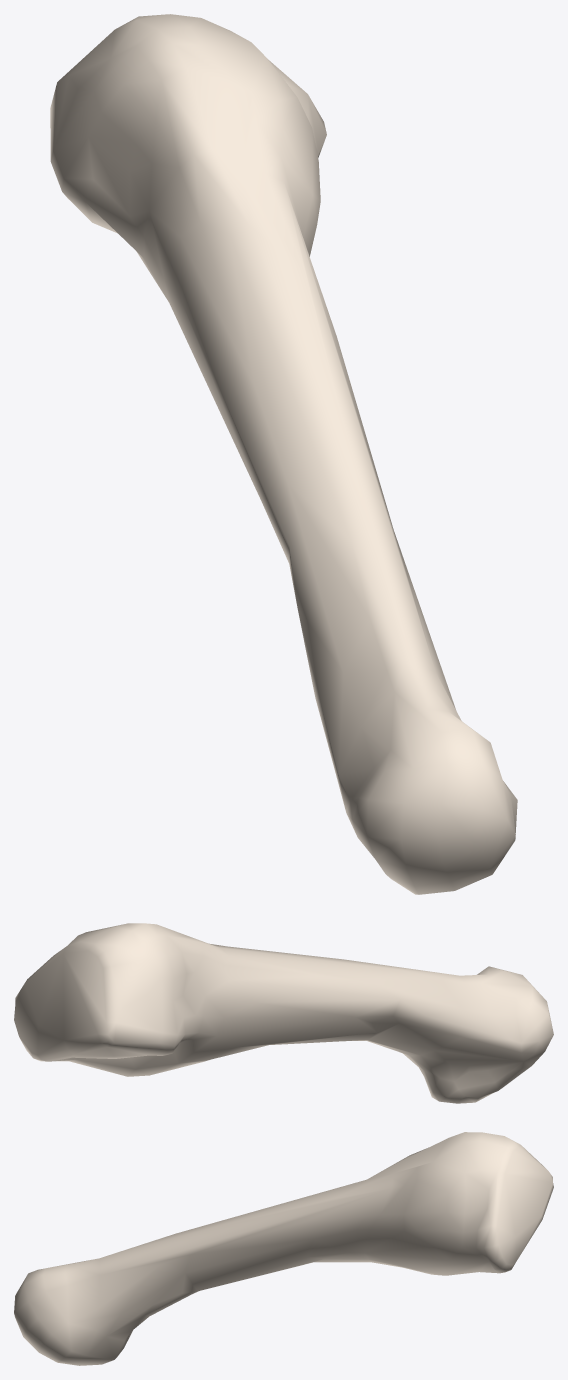
Rendered from right_metatarsal_4.glb.
The picture shows the model from 3 angles, top to bottom: view 1: azimuth 30°, elevation 25°; view 2: azimuth 150°, elevation 25°; view 3: azimuth 270°, elevation 25°; orthographic projection. The views are drawn at different scales.
Visible parts, largest first — view 1: Fourth metatarsal bone.r; view 2: Fourth metatarsal bone.r; view 3: Fourth metatarsal bone.r.
Part boxes in pixels (box(x1,y1,x2,y2)): Fourth metatarsal bone.r: box(50, 14, 517, 894); Fourth metatarsal bone.r: box(14, 923, 553, 1103); Fourth metatarsal bone.r: box(14, 1132, 553, 1365).
Size of the model in its own units: 0.0293 by 0.0363 by 0.0676.
